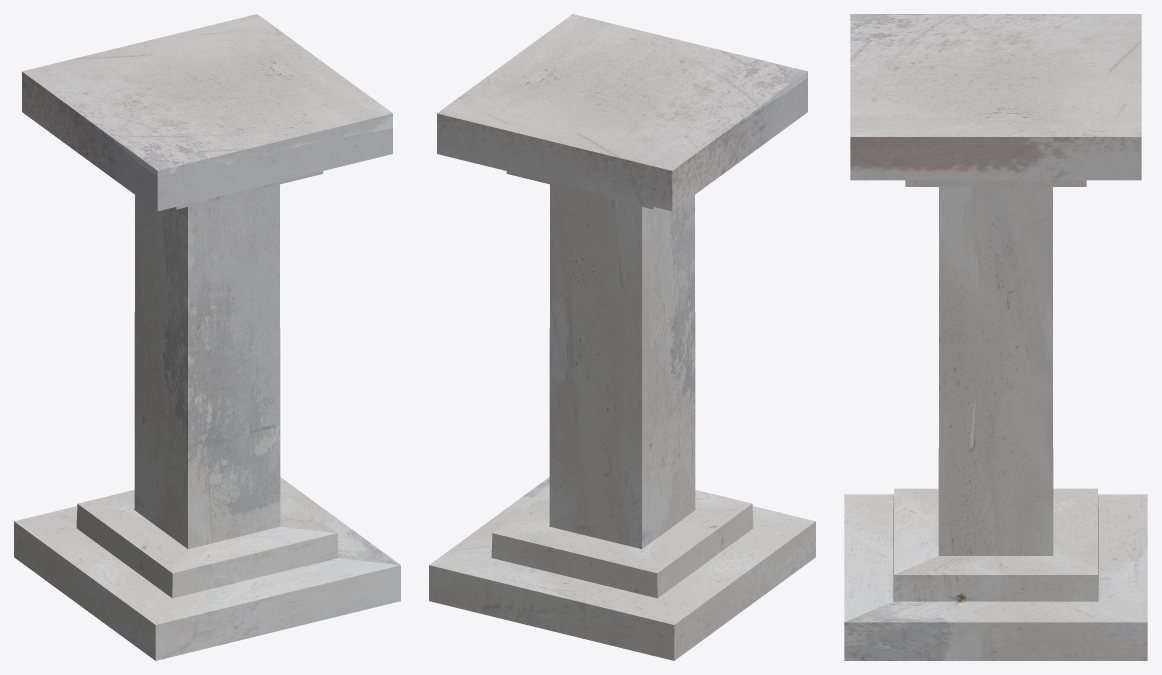
File: Column.fbx
The picture shows the model from 3 angles, left to right: view 1: azimuth 30°, elevation 25°; view 2: azimuth 150°, elevation 25°; view 3: azimuth 270°, elevation 25°; orthographic projection. The views are drawn at different scales.
Visible parts, largest first — view 1: Cube; view 2: Cube; view 3: Cube.
Part boxes in pixels (x1,y1,x2,y2): Cube: (14, 14, 400, 660); Cube: (429, 14, 815, 660); Cube: (844, 14, 1147, 660).
Size of the model in its own units: 69.04 by 131 by 69.04.
